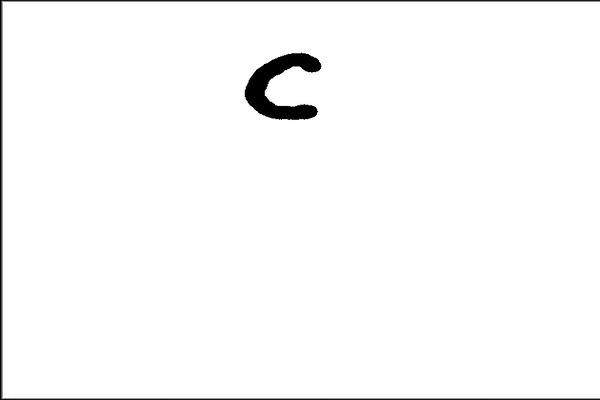C: (239, 47, 325, 123)
